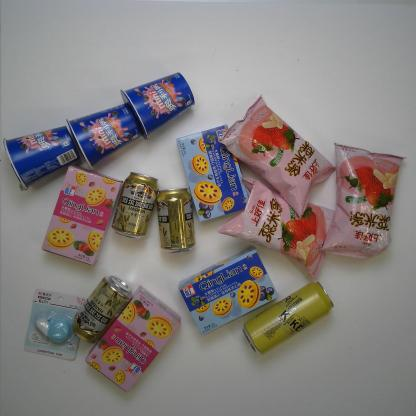Alcohol: (242, 280, 334, 355), (72, 275, 134, 344), (111, 171, 159, 239), (156, 187, 196, 254)
Dessert: (84, 285, 181, 393), (177, 246, 279, 336), (41, 164, 125, 266), (176, 124, 249, 223), (65, 102, 143, 170), (120, 72, 195, 141), (3, 126, 80, 192)
Puffed Food: (218, 94, 336, 220), (216, 176, 335, 281), (320, 142, 407, 259)
Stationery: (24, 289, 88, 361)
